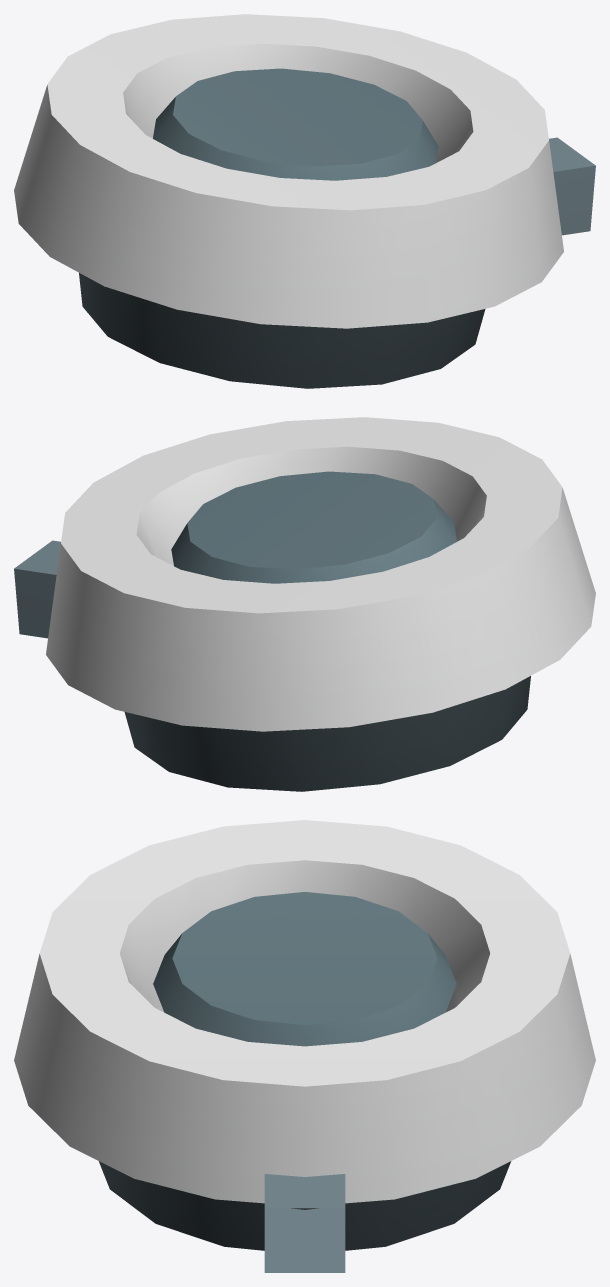
Rendered from Drone_010_wing_001.fbx.
3 renders of one model, top to bottom at view 1: azimuth 30°, elevation 25°; view 2: azimuth 150°, elevation 25°; view 3: azimuth 270°, elevation 25°, orthographic. The views are drawn at different scales.
Visible parts, largest first — view 1: Drone_010_wing_001; view 2: Drone_010_wing_001; view 3: Drone_010_wing_001.
Boxes of the visible parts, x1,y1,x2,y2 form: Drone_010_wing_001: [14, 14, 595, 388]; Drone_010_wing_001: [14, 417, 595, 791]; Drone_010_wing_001: [14, 820, 595, 1272].
Size of the model in its own units: 43.48 by 39.64 by 18.25.
